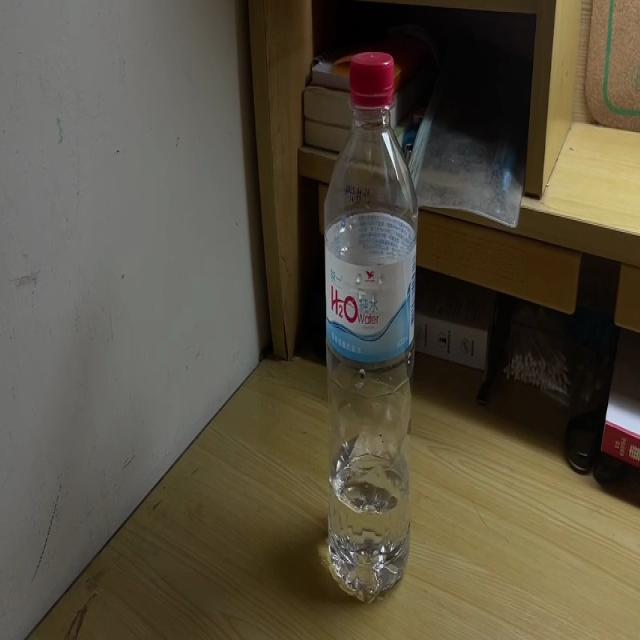Water: (326, 49, 415, 605)
